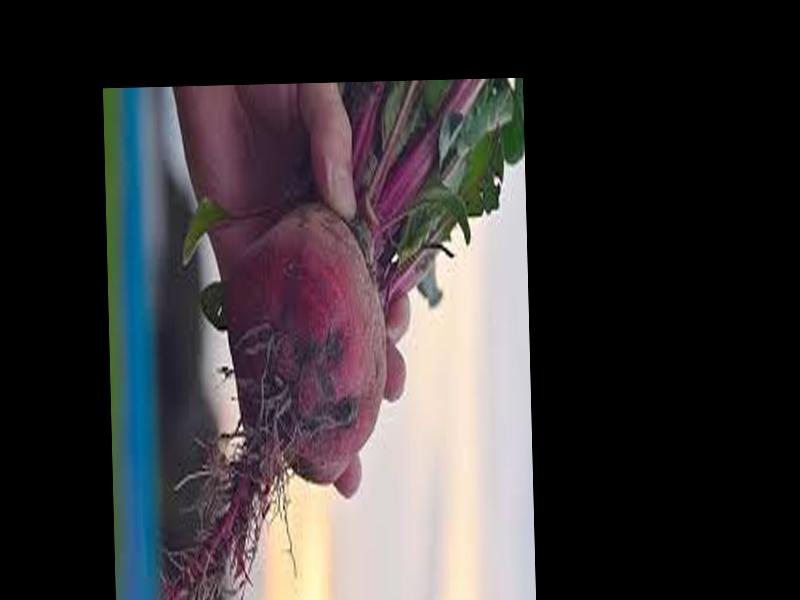Beet: (122, 81, 535, 600)
